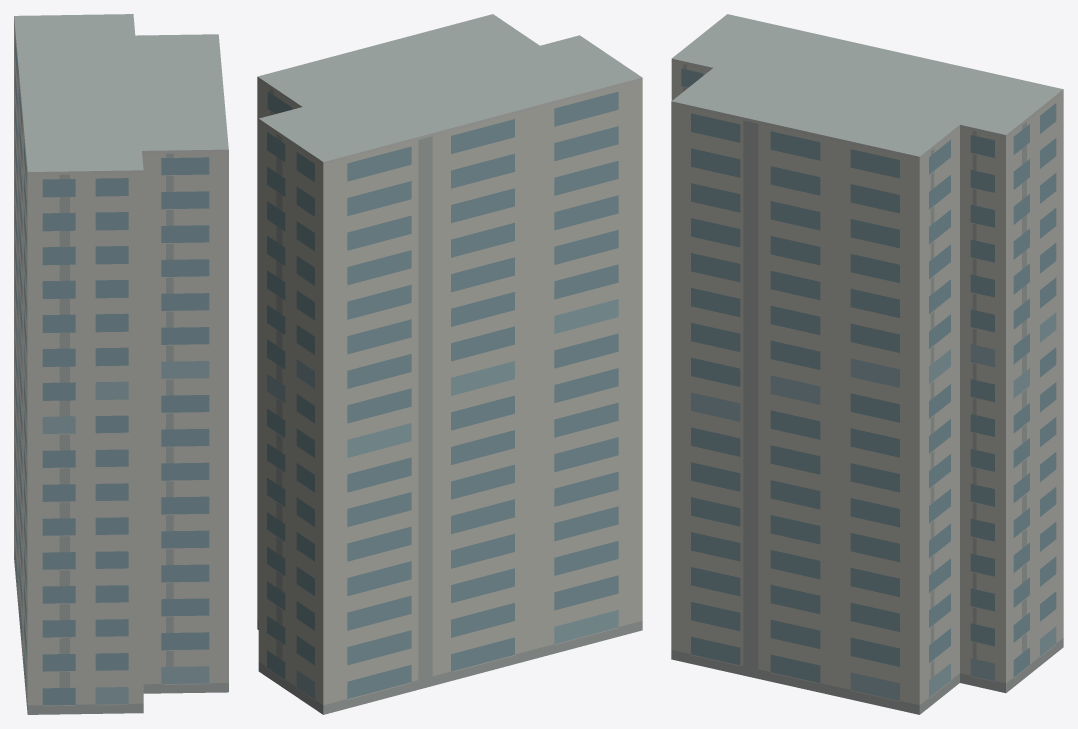
File: residential-8d7505c5-e9ca-4e19-bf9b-166d037aa636.glb
The picture shows the model from 3 angles, left to right: view 1: azimuth 30°, elevation 25°; view 2: azimuth 150°, elevation 25°; view 3: azimuth 270°, elevation 25°; orthographic projection. The views are drawn at different scales.
Parts seen in each view (by area): view 1: residential-8d7505c5-e9ca-4e19-bf9b-166d037aa636.tmp; view 2: residential-8d7505c5-e9ca-4e19-bf9b-166d037aa636.tmp; view 3: residential-8d7505c5-e9ca-4e19-bf9b-166d037aa636.tmp.
Boxes of the visible parts, <box> form: residential-8d7505c5-e9ca-4e19-bf9b-166d037aa636.tmp: <box>14,14,228,714</box>; residential-8d7505c5-e9ca-4e19-bf9b-166d037aa636.tmp: <box>257,14,642,714</box>; residential-8d7505c5-e9ca-4e19-bf9b-166d037aa636.tmp: <box>671,14,1063,714</box>.
Bounding box in the file's own units: 23.6 × 43 × 27.38.
